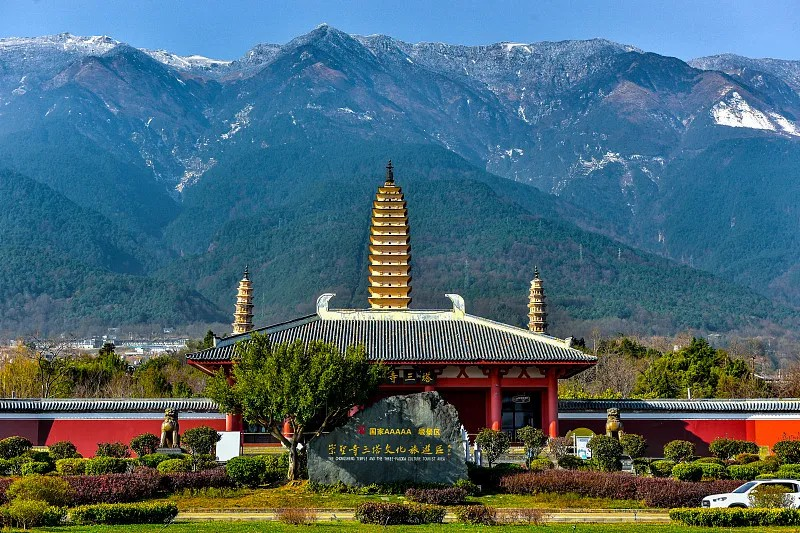ThreePagoda: (366, 160, 413, 310)
